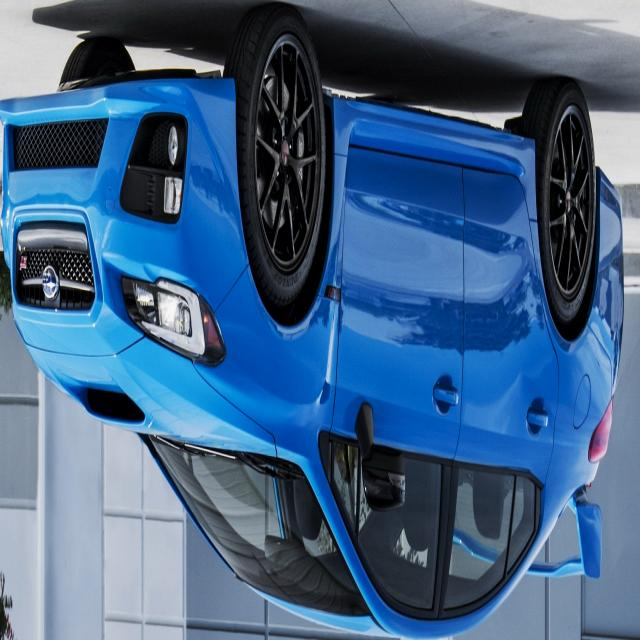blue: (0, 24, 622, 640)
